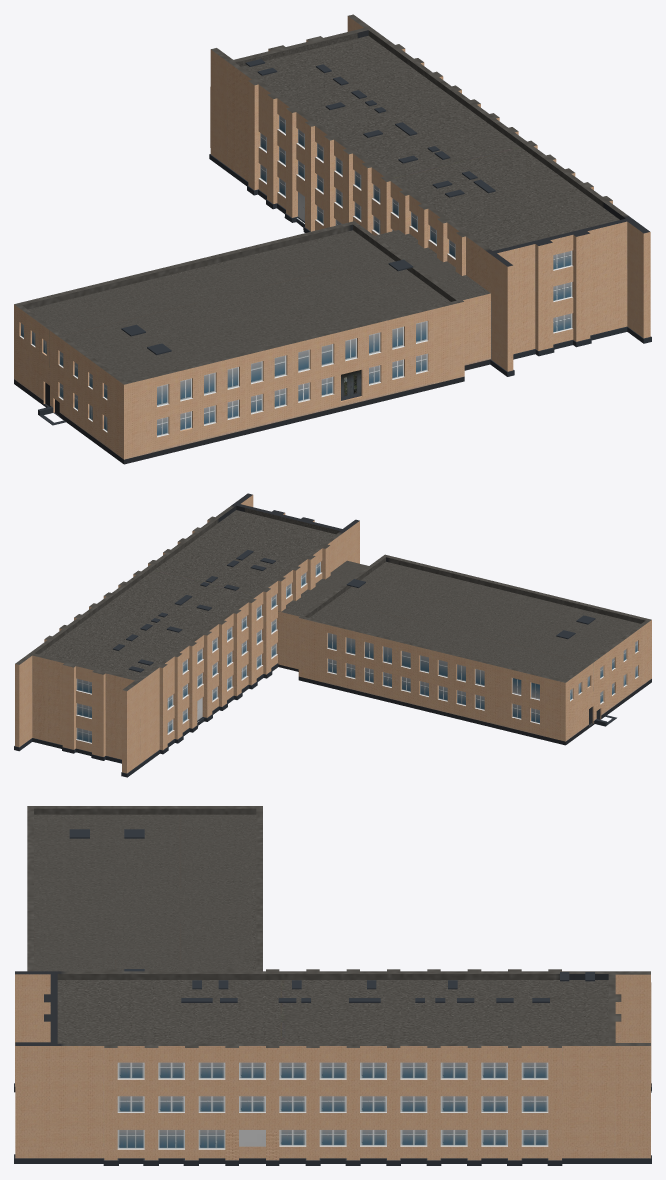
The model's file is lgebouwreport.glb.
The picture shows the model from 3 angles, top to bottom: view 1: azimuth 30°, elevation 25°; view 2: azimuth 150°, elevation 25°; view 3: azimuth 270°, elevation 25°; orthographic projection. The views are drawn at different scales.
Parts seen in each view (by area): view 1: Object_5, Object_4, Object_6; view 2: Object_4, Object_5, Object_6; view 3: Object_4, Object_5, Object_6.
Part boxes in pixels (x1,y1,x2,y2): Object_5: [14, 221, 490, 464]; Object_4: [210, 14, 650, 371]; Object_6: [38, 59, 651, 425]; Object_4: [15, 493, 359, 773]; Object_5: [278, 554, 651, 745]; Object_6: [14, 550, 616, 777]; Object_4: [15, 969, 651, 1160]; Object_5: [27, 806, 262, 971]; Object_6: [14, 829, 651, 1165].
Size of the model in its own units: 5658 by 1137 by 5418.
3 materials, 2 textured.
